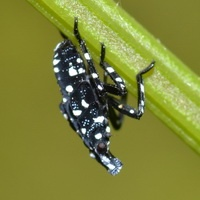insect: (53, 17, 154, 174)
